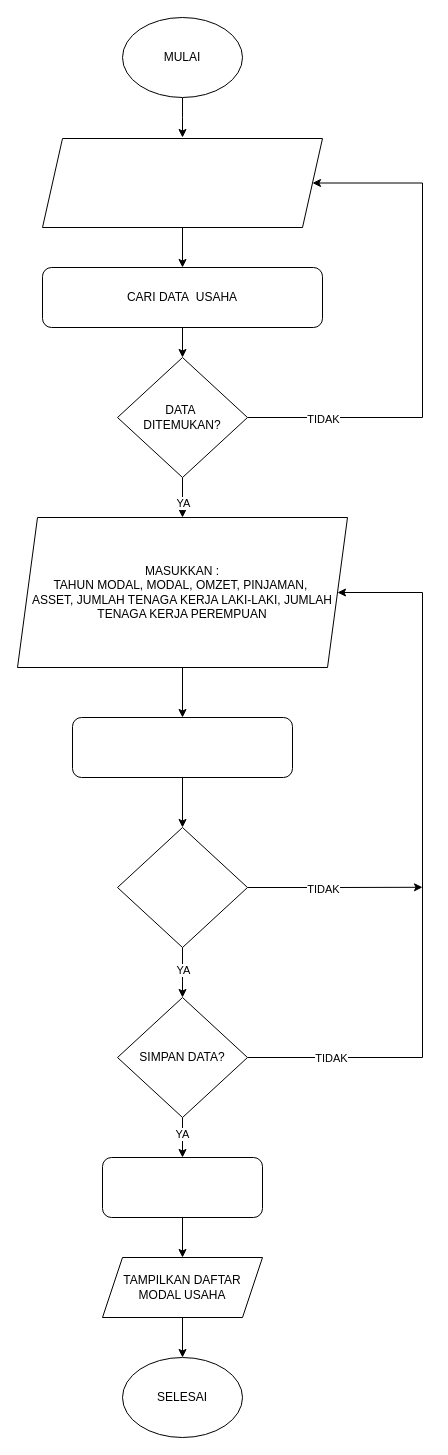
Image size: 448x1455. Some labels were removed from this diagram. Here are the shapes that lost their labels. From the top down, the centre of each, then its label:
At (182,183): "INPUT KATA KUNCI PENCARIAN DATA USAHA".
At (182,747): "APLIKASI MELAKUKAN PROSES VALIDASI DATA".
At (182,887): "DATA VALID?".
At (182,1187): "PROSES SIMPAN DATA".
